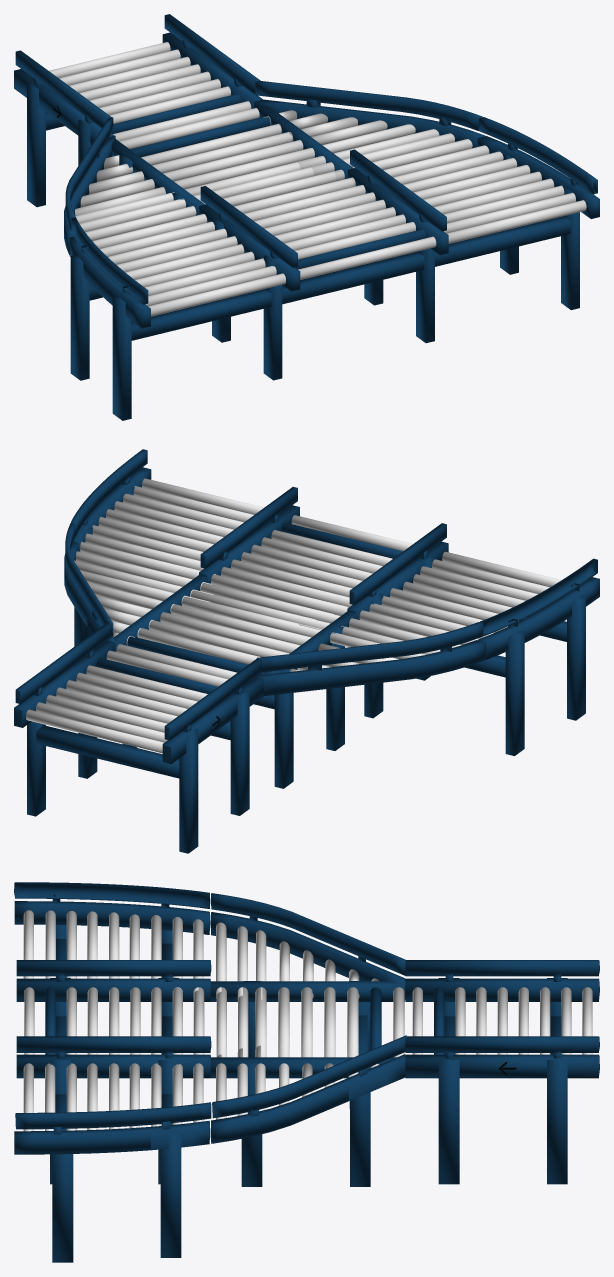
The model's file is Bifurcator.glb.
3 views of the same model, one above another, from view 1: azimuth 30°, elevation 25°; view 2: azimuth 150°, elevation 25°; view 3: azimuth 270°, elevation 25° (orthographic). The views are drawn at different scales.
Parts seen in each view (by area): view 1: Belt.116, Belt.156, Belt.134, Belt.145, Belt.138, Belt.144, Belt.143, Belt.137, Belt.160, Belt.162, Belt.125, Belt.127 (+37 smaller); view 2: Belt.116, Belt.134, Belt.156, Belt.143, Belt.144, Belt.161, Belt.122, Belt.118, Belt.121, Belt.124, Belt.142, Belt.123 (+31 smaller); view 3: Belt.116, Belt.156, Belt.134, Belt.140, Belt.136, Belt.137, Belt.151, Belt.117, Belt.130, Belt.118, Belt.122, Belt.124 (+23 smaller).
Boxes of the visible parts, bbox=[...] form: Belt.116: bbox=[14, 14, 448, 380]; Belt.156: bbox=[254, 80, 599, 218]; Belt.134: bbox=[64, 117, 150, 328]; Belt.145: bbox=[131, 289, 271, 340]; Belt.138: bbox=[417, 216, 570, 266]; Belt.144: bbox=[112, 295, 131, 420]; Belt.143: bbox=[70, 254, 89, 380]; Belt.137: bbox=[561, 185, 579, 309]; Belt.160: bbox=[446, 200, 586, 243]; Belt.162: bbox=[148, 273, 285, 316]; Belt.125: bbox=[141, 124, 281, 165]; Belt.127: bbox=[119, 108, 259, 149]; Belt.116: bbox=[14, 487, 448, 853]; Belt.134: bbox=[256, 558, 599, 695]; Belt.156: bbox=[64, 449, 151, 651]; Belt.143: bbox=[505, 631, 524, 755]; Belt.144: bbox=[567, 595, 585, 720]; Belt.161: bbox=[274, 669, 293, 788]; Belt.122: bbox=[171, 604, 311, 645]; Belt.118: bbox=[160, 612, 300, 653]; Belt.121: bbox=[182, 596, 322, 637]; Belt.124: bbox=[149, 620, 289, 657]; Belt.142: bbox=[201, 582, 340, 622]; Belt.123: bbox=[80, 541, 215, 579]; Belt.116: bbox=[16, 960, 599, 1184]; Belt.156: bbox=[14, 1035, 406, 1154]; Belt.134: bbox=[14, 882, 405, 1001]; Belt.140: bbox=[210, 981, 404, 1001]; Belt.136: bbox=[160, 1133, 181, 1257]; Belt.137: bbox=[52, 1154, 73, 1262]; Belt.151: bbox=[350, 1067, 370, 1186]; Belt.117: bbox=[210, 1057, 396, 1078]; Belt.130: bbox=[241, 1063, 262, 1186]; Belt.118: bbox=[301, 987, 312, 1057]; Belt.122: bbox=[278, 987, 289, 1057]; Belt.124: bbox=[324, 987, 335, 1057].
Size of the model in its own units: 22.98 by 6.73 by 24.11.
